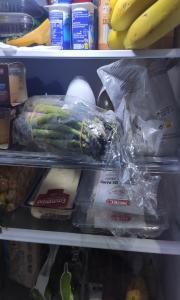Esparrago: (13, 95, 124, 162)
Humus: (0, 61, 28, 107), (0, 106, 19, 150)
Leche: (64, 74, 96, 112)
Pan de sandwich: (0, 239, 45, 291)
Pera: (138, 257, 159, 300), (124, 273, 148, 300)
Plátano: (123, 0, 180, 53), (111, 0, 158, 33), (106, 29, 130, 50), (106, 0, 118, 30)
Queso: (97, 57, 180, 157), (20, 167, 84, 219)
Tomate: (96, 89, 115, 114)
Yogur: (69, 2, 98, 50), (43, 5, 70, 50)
